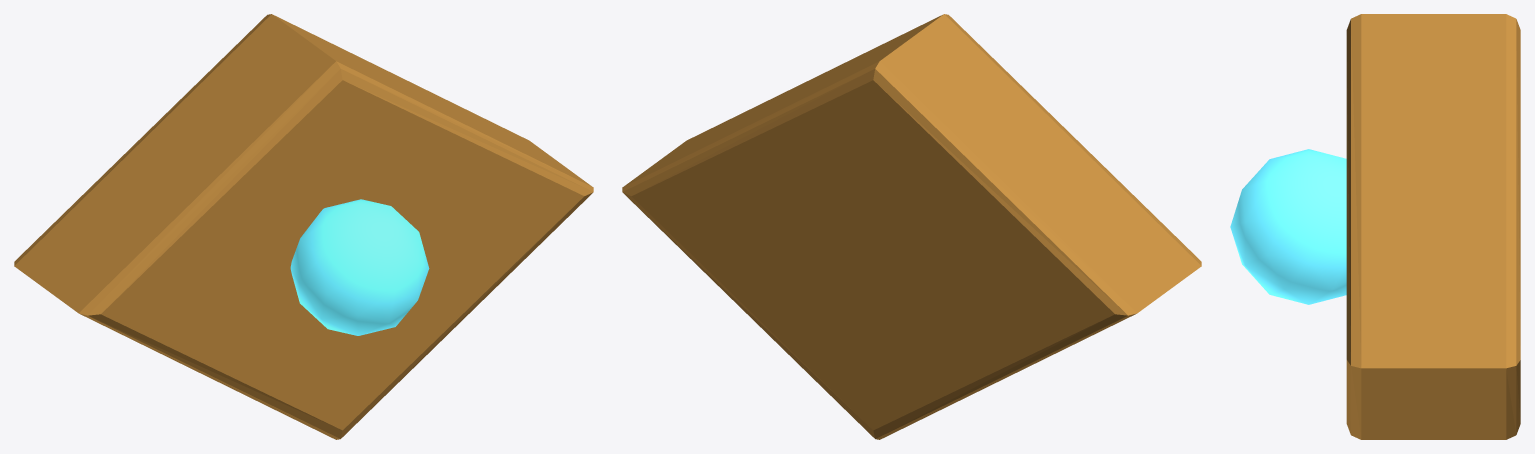
Rendered from grimoire-medallion-reference.glb.
The picture shows the model from 3 angles, left to right: view 1: azimuth 30°, elevation 25°; view 2: azimuth 150°, elevation 25°; view 3: azimuth 270°, elevation 25°; orthographic projection. The views are drawn at different scales.
Parts seen in each view (by area): view 1: MedallionPlate, Gem; view 2: MedallionPlate; view 3: MedallionPlate, Gem.
Part boxes in pixels (box(x1,y1,x2,y2)): MedallionPlate: box(14, 14, 593, 439); Gem: box(290, 199, 429, 335); MedallionPlate: box(622, 14, 1201, 439); MedallionPlate: box(1346, 14, 1520, 439); Gem: box(1230, 149, 1346, 304).
Size of the model in its own units: 23.44 by 16.47 by 10.17.
